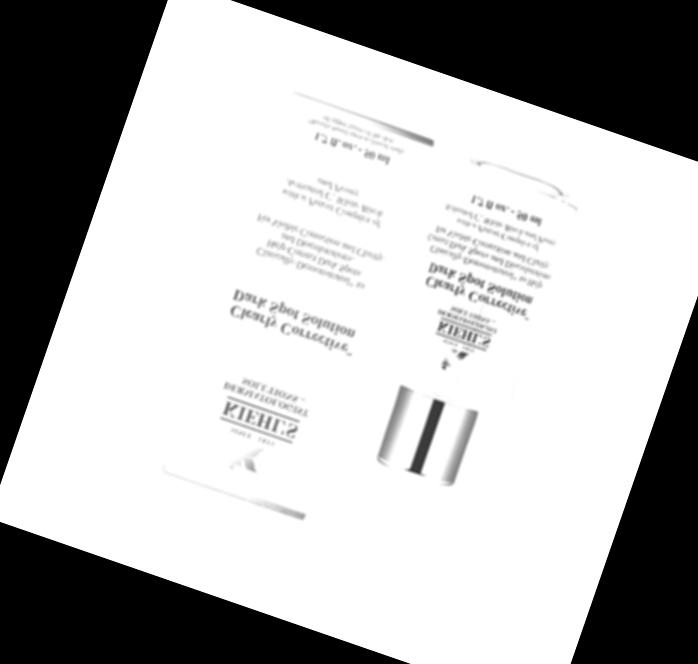cosmetic: (335, 164, 576, 562)
